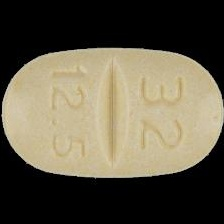60505-3759: (0, 0, 224, 224)
